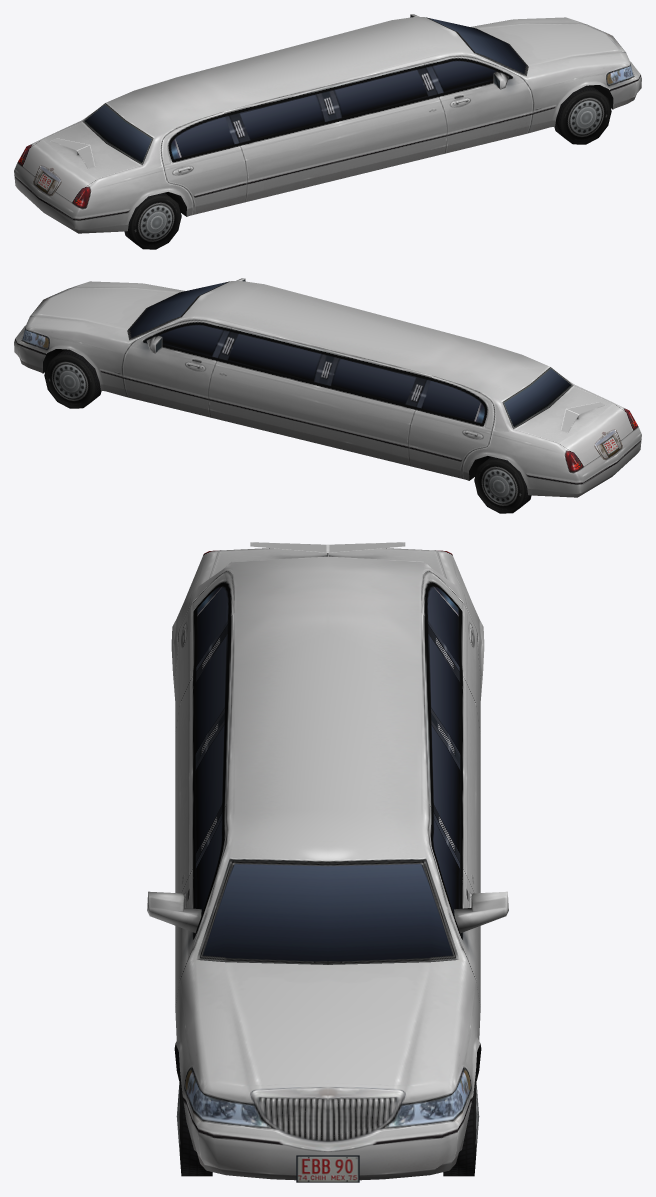
Rendered from Limo.fbx.
The picture shows the model from 3 angles, top to bottom: view 1: azimuth 30°, elevation 25°; view 2: azimuth 150°, elevation 25°; view 3: azimuth 270°, elevation 25°; orthographic projection. The views are drawn at different scales.
Parts seen in each view (by area): view 1: Limo1, Limo_Wheel_Front_R, Limo_Wheel_Rear_R; view 2: Limo1, Limo_Wheel_Front_L, Limo_Wheel_Rear_L; view 3: Limo1, Limo_Wheel_Front_L, Limo_Wheel_Front_R.
Boxes of the visible parts, x1,y1,x2,y2 form: Limo1: [14, 14, 641, 233]; Limo_Wheel_Front_R: [554, 85, 611, 144]; Limo_Wheel_Rear_R: [124, 192, 181, 249]; Limo1: [14, 278, 641, 497]; Limo_Wheel_Front_L: [44, 349, 101, 408]; Limo_Wheel_Rear_L: [474, 456, 531, 513]; Limo1: [147, 542, 508, 1182]; Limo_Wheel_Front_L: [443, 1072, 479, 1176]; Limo_Wheel_Front_R: [176, 1072, 212, 1176].
Bounding box in the file's own units: 9.49 × 1.79 × 2.55.
